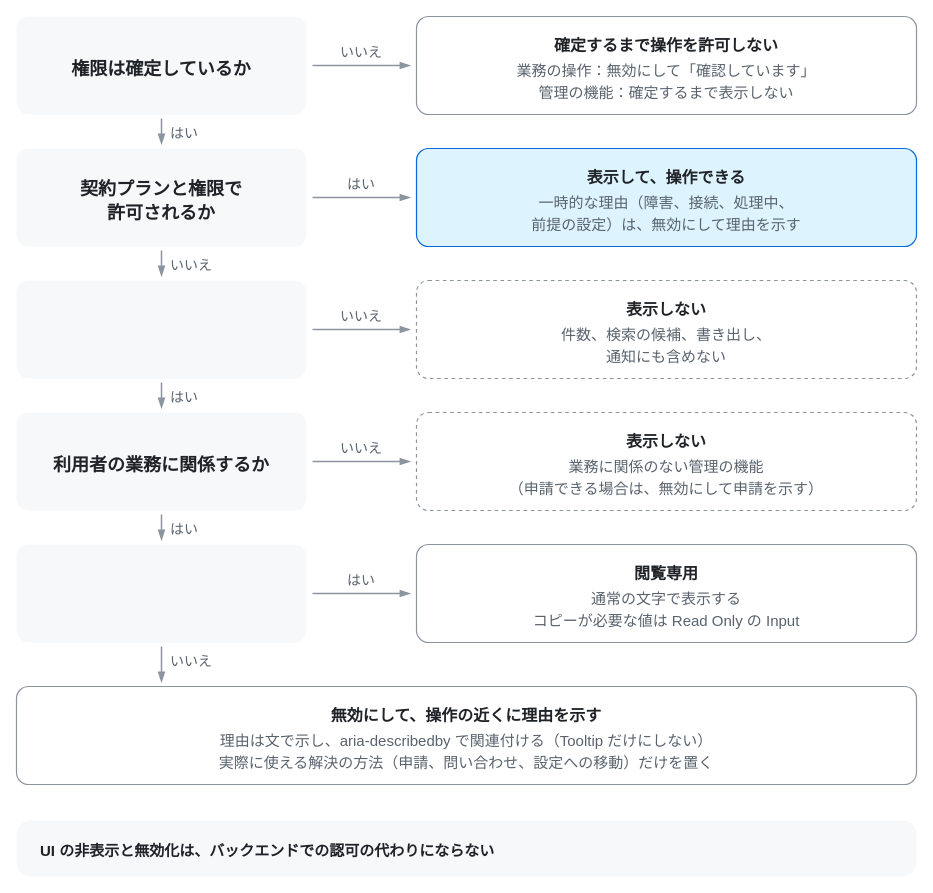
Image size: 933x893. Some labels were removed from this diagram. Each missing label, with the centre of its shape:
存在を知らせてよいか: point (161, 329)
対象は閲覧できる内容か: point (161, 593)
